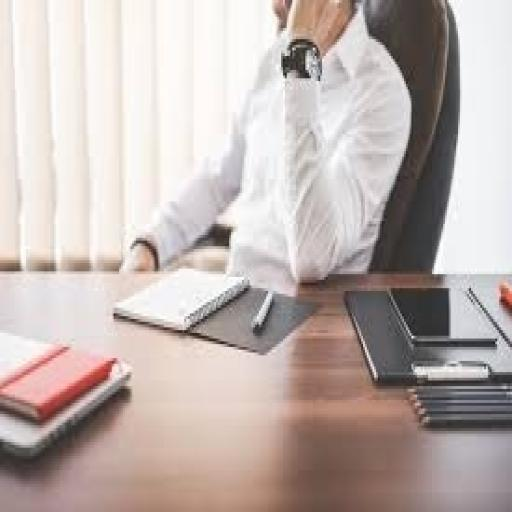calling: (118, 0, 414, 294)
